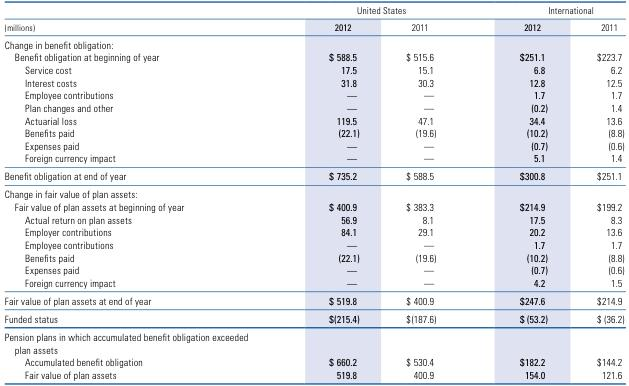table: (3, 4, 623, 380)
table column: (3, 4, 255, 380), (255, 4, 382, 380), (382, 4, 477, 380), (477, 4, 571, 380), (571, 4, 623, 380)
table column header: (3, 4, 623, 35)
table projected row header: (3, 327, 623, 355), (3, 35, 623, 50), (3, 184, 623, 199)
table row: (3, 327, 623, 355), (3, 17, 623, 35), (3, 166, 623, 184), (3, 291, 623, 309), (3, 309, 623, 327), (3, 275, 623, 291), (3, 35, 623, 50), (3, 151, 623, 166), (3, 184, 623, 199), (3, 4, 623, 17), (3, 62, 623, 75), (3, 75, 623, 88), (3, 100, 623, 113), (3, 113, 623, 126), (3, 138, 623, 151), (3, 199, 623, 212), (3, 212, 623, 225), (3, 237, 623, 250), (3, 250, 623, 263), (3, 367, 623, 380), (3, 50, 623, 62), (3, 88, 623, 100), (3, 126, 623, 138), (3, 225, 623, 237), (3, 263, 623, 275), (3, 355, 623, 367)
table spanning cell: (3, 4, 255, 35), (255, 4, 477, 17), (477, 4, 623, 17)
